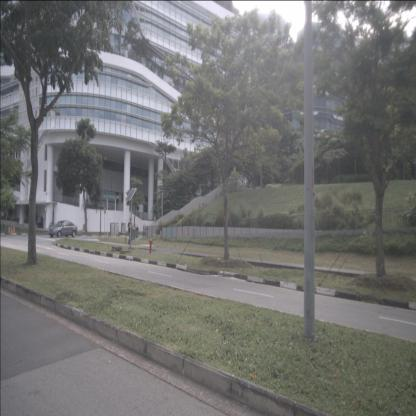cone: (12, 226, 16, 233), (7, 226, 10, 234), (10, 226, 13, 233)
